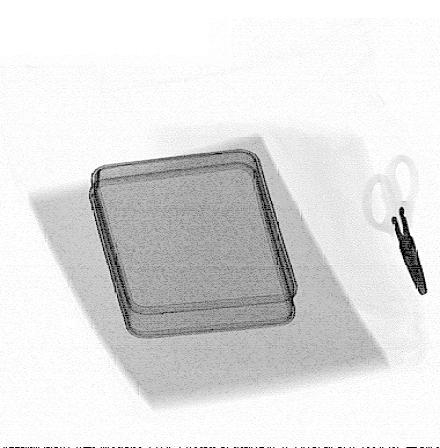Scissors: (358, 150, 432, 298)
